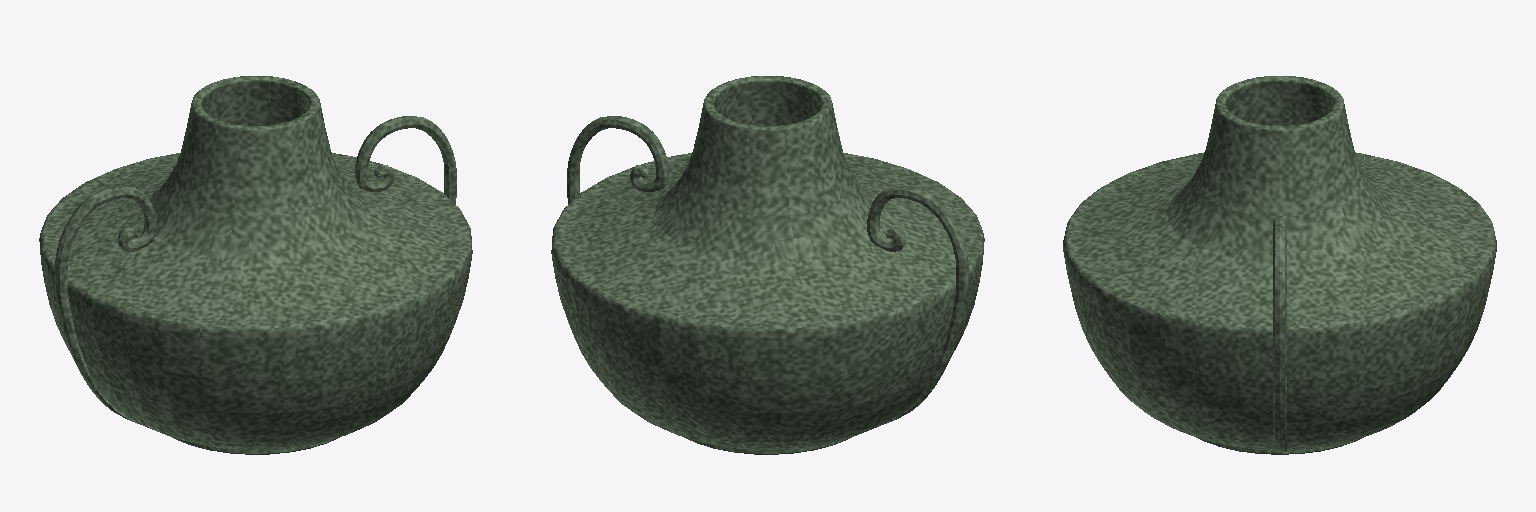
3 views of the same model, side by side, from view 1: azimuth 30°, elevation 25°; view 2: azimuth 150°, elevation 25°; view 3: azimuth 270°, elevation 25° (orthographic).
Visible parts, largest first — view 1: model_4; view 2: model_4; view 3: model_4.
Boxes of the visible parts, box(x1,y1,x2,y2) form: model_4: box(39, 76, 472, 454); model_4: box(551, 76, 984, 454); model_4: box(1063, 76, 1496, 454).
Size of the model in its own units: 139 by 102 by 130.
Materials: 1 (1 with a texture image).